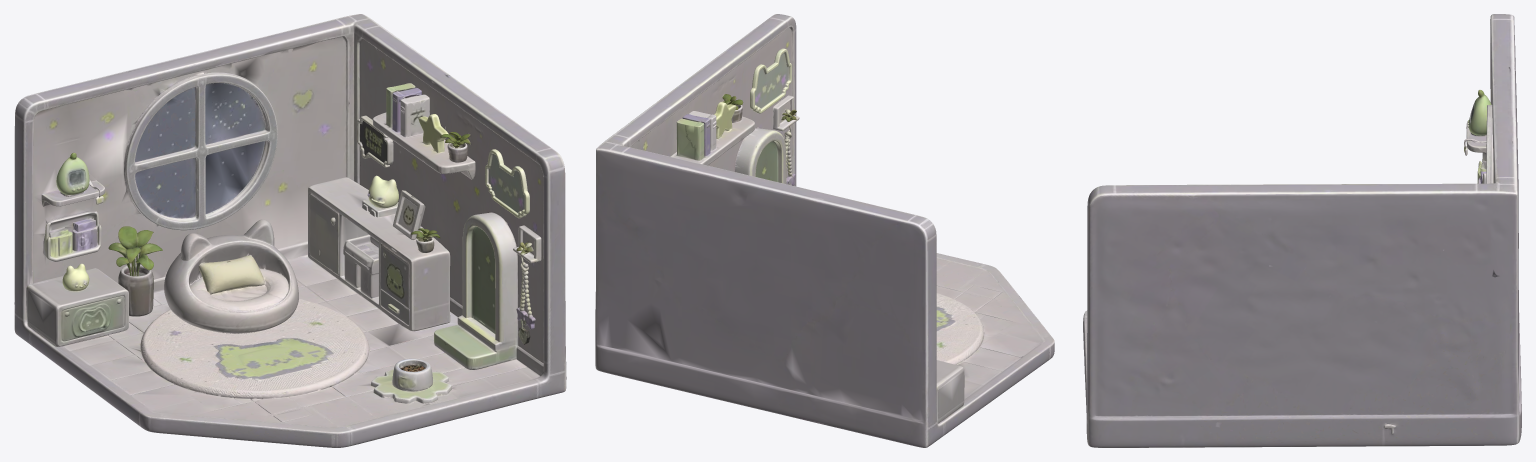
File: pet-home-white.glb
The picture shows the model from 3 angles, left to right: view 1: azimuth 30°, elevation 25°; view 2: azimuth 150°, elevation 25°; view 3: azimuth 270°, elevation 25°; orthographic projection. The views are drawn at different scales.
Size of the model in its own units: 0.7989 by 0.5003 by 0.7854.
1 material, 1 textured.
